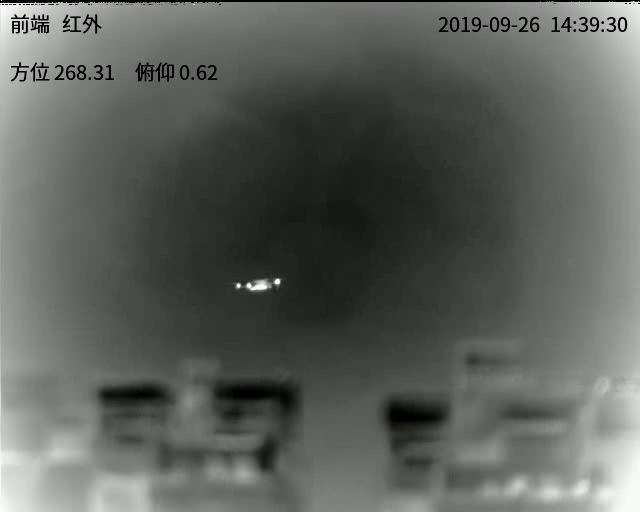DRONE: (233, 275, 283, 294)
